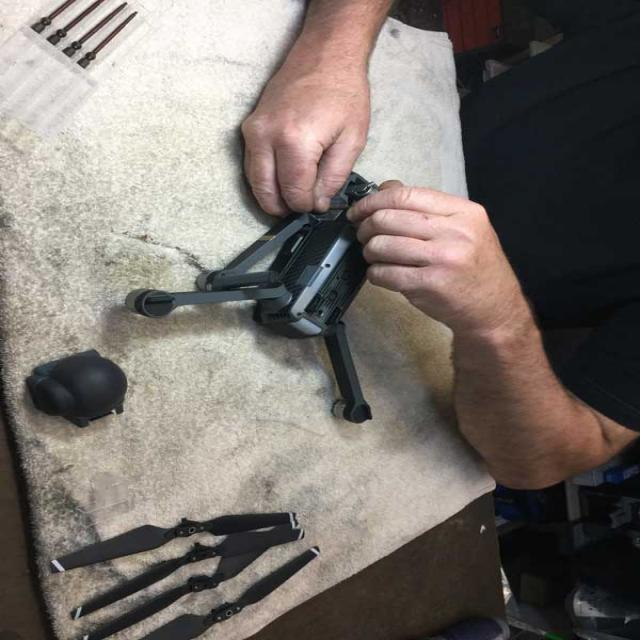drone: (124, 117, 450, 426)
